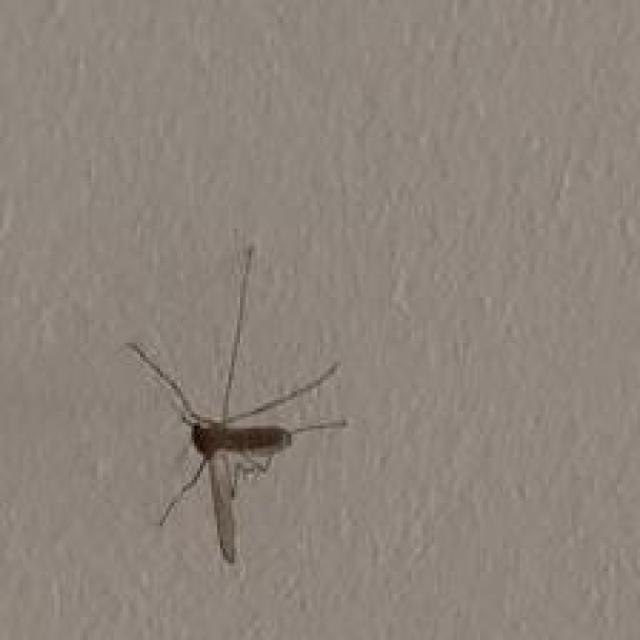Culex: (123, 243, 348, 566)
